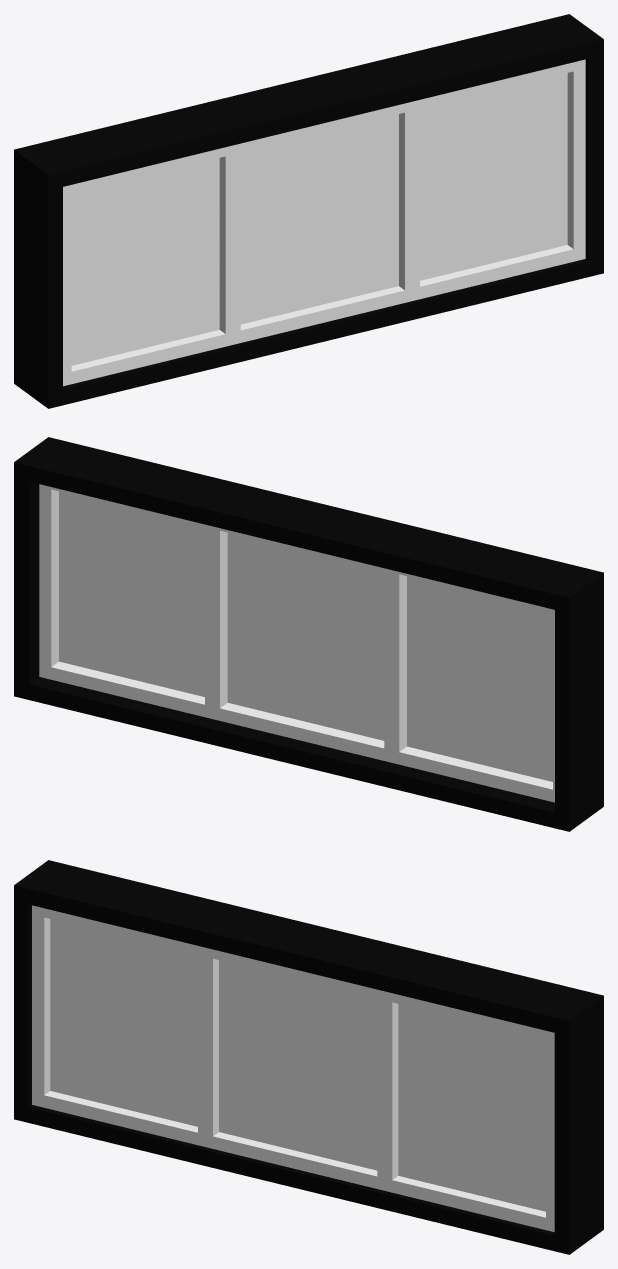
Rendered from wxG.fbx.
The picture shows the model from 3 angles, top to bottom: view 1: azimuth 30°, elevation 25°; view 2: azimuth 150°, elevation 25°; view 3: azimuth 330°, elevation 25°; orthographic projection.
Visible parts, largest first — view 1: i, glass; view 2: i, glass; view 3: i, glass.
Boxes of the visible parts, x1,y1,x2,y2 form: i: [14, 14, 603, 408]; glass: [71, 73, 567, 365]; i: [14, 437, 603, 831]; glass: [59, 491, 552, 781]; i: [14, 860, 603, 1254]; glass: [50, 919, 545, 1211].
Bounding box in the file's own units: 18.6 × 7.49 × 2.
